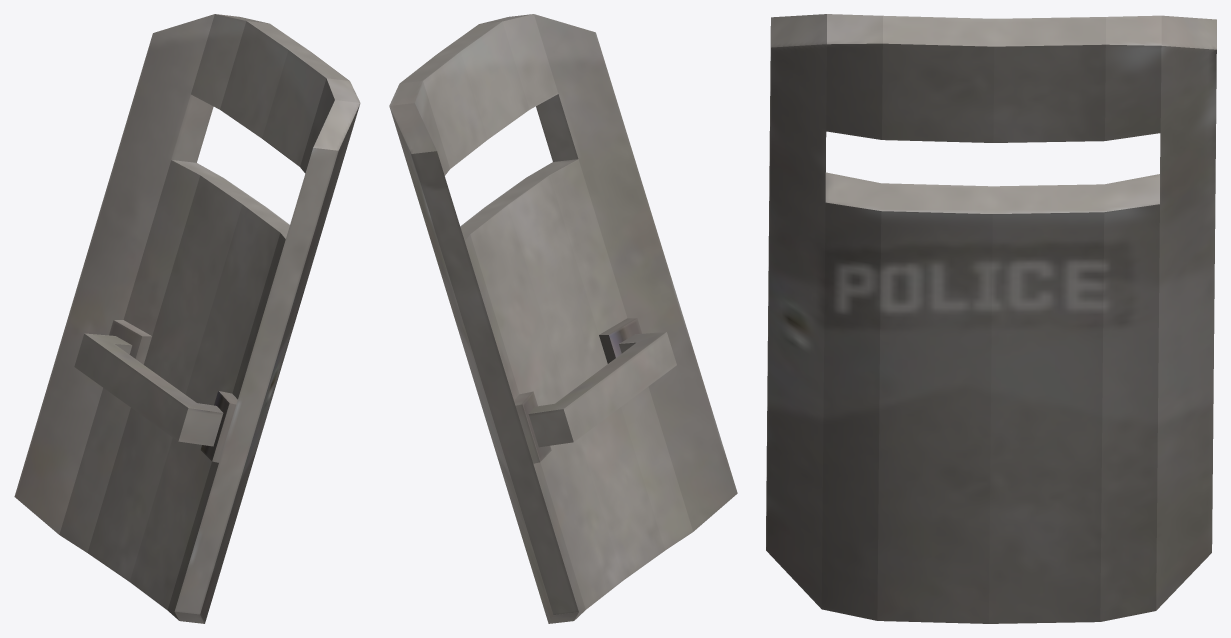
The model's file is riot shield.fbx.
The picture shows the model from 3 angles, left to right: view 1: azimuth 30°, elevation 25°; view 2: azimuth 150°, elevation 25°; view 3: azimuth 270°, elevation 25°; orthographic projection. The views are drawn at different scales.
Visible parts, largest first — view 1: riot shield; view 2: riot shield; view 3: riot shield.
Boxes of the visible parts, bbox=[...] form: riot shield: bbox=[14, 14, 360, 623]; riot shield: bbox=[389, 14, 737, 623]; riot shield: bbox=[766, 14, 1216, 623].
Bounding box in the file's own units: 60.96 × 133 × 77.45.
Materials: 1 (1 with a texture image).
